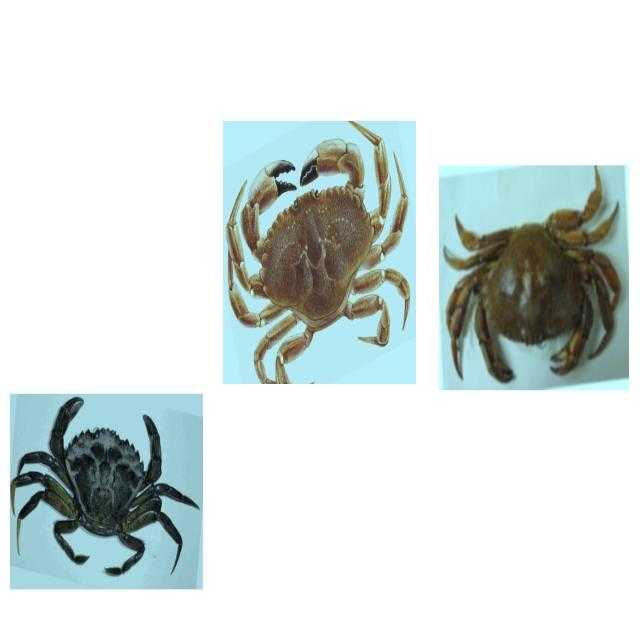egc: (8, 395, 202, 591)
jonah_crab: (224, 120, 413, 384)
rock_crab: (439, 169, 628, 386)
